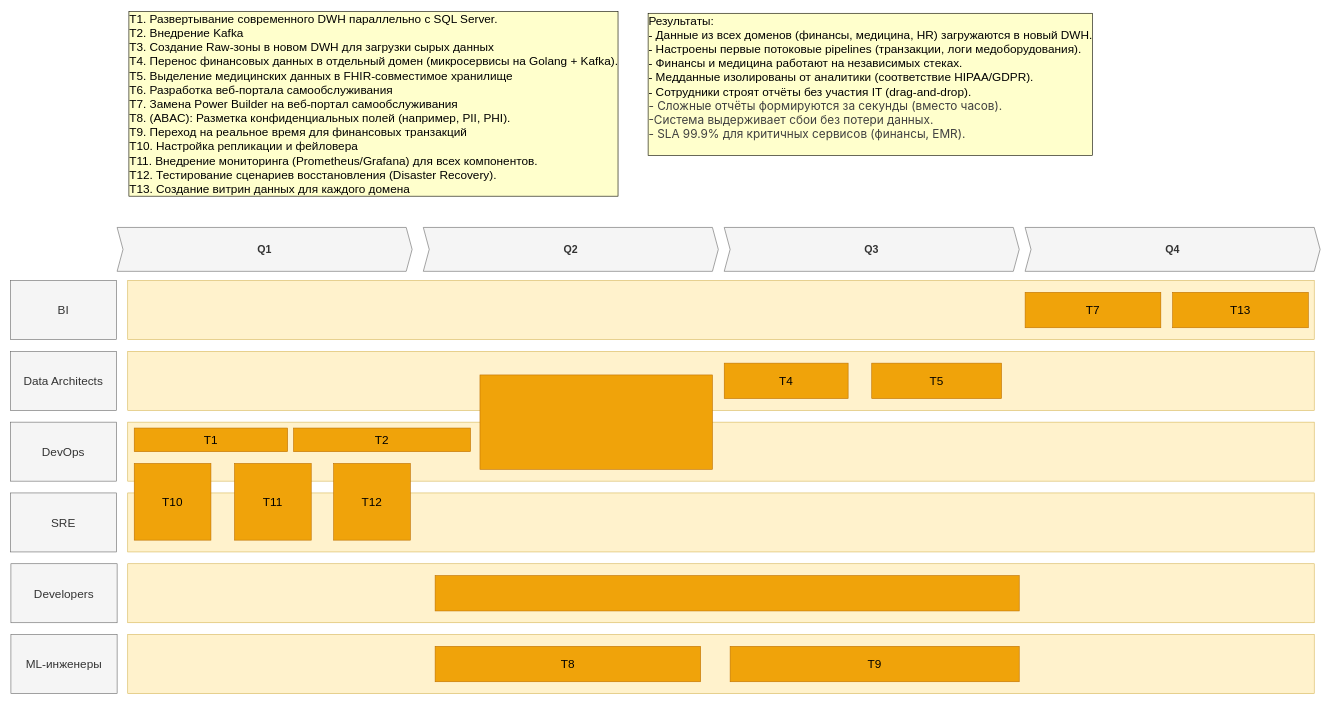
Some shapes in this 1330 by 704 pixel diagram are drawn without their labels. The shapes that lost their labels are listed below. From the top down, each one's box as (x1, y1, x2, y2) in pixels, then its label:
(479, 374, 712, 469): Т3
(435, 575, 1019, 611): Т6
